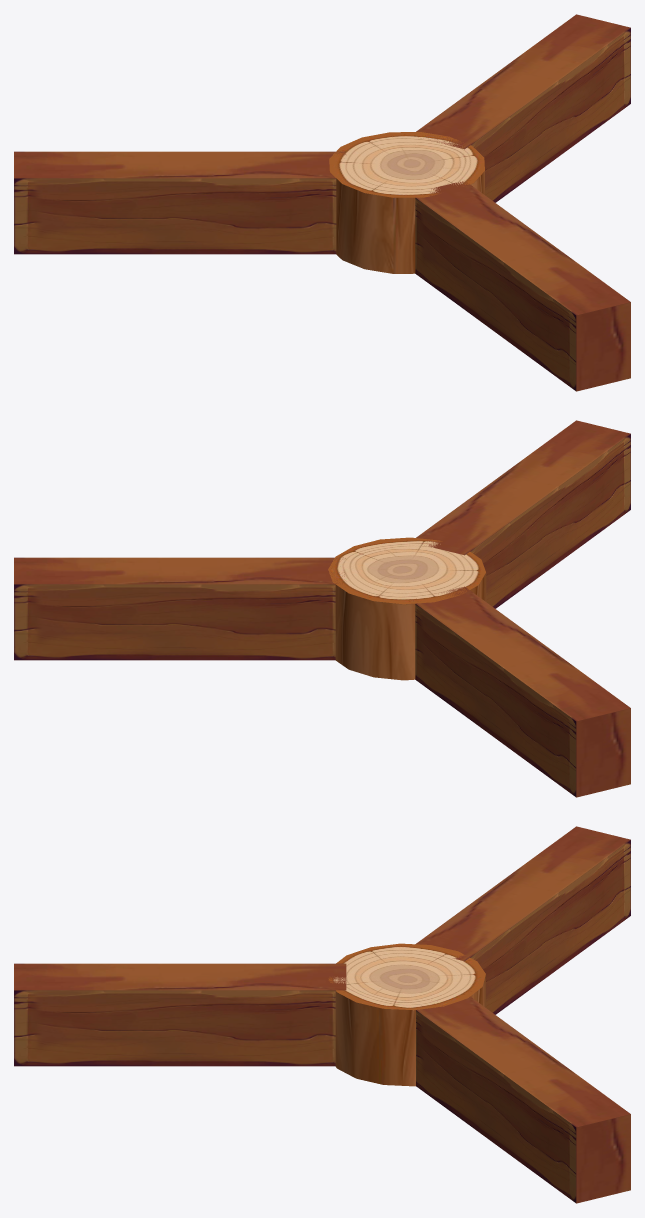
File: three_blade_wood_02.fbx
The picture shows the model from 3 angles, top to bottom: view 1: azimuth 30°, elevation 25°; view 2: azimuth 150°, elevation 25°; view 3: azimuth 270°, elevation 25°; orthographic projection.
Parts seen in each view (by area): view 1: Blade_62, Blade_63, Blade_61, wood_center_28; view 2: Blade_61, Blade_62, Blade_63, wood_center_28; view 3: Blade_63, Blade_61, Blade_62, wood_center_28.
Boxes of the visible parts, box(x1,y1,x2,y2) form: Blade_62: box(14, 151, 345, 254); Blade_63: box(415, 181, 630, 391); Blade_61: box(416, 14, 630, 202); wood_center_28: box(329, 132, 484, 273); Blade_61: box(14, 557, 345, 660); Blade_62: box(413, 586, 630, 797); Blade_63: box(416, 420, 630, 608); wood_center_28: box(328, 537, 486, 680); Blade_63: box(14, 963, 346, 1066); Blade_61: box(416, 996, 630, 1203); Blade_62: box(415, 826, 630, 1014); wood_center_28: box(328, 943, 485, 1086).
Size of the model in its own units: 339 by 40 by 294.
